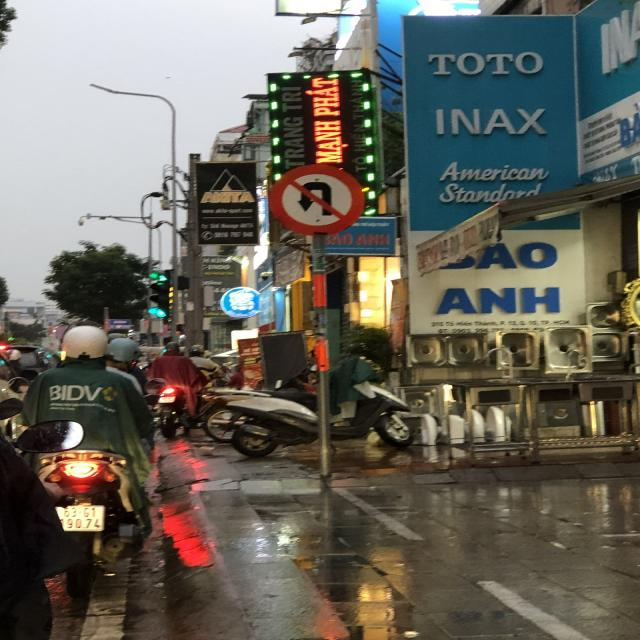Bien bao cam quay dau xe: (262, 161, 372, 236)
